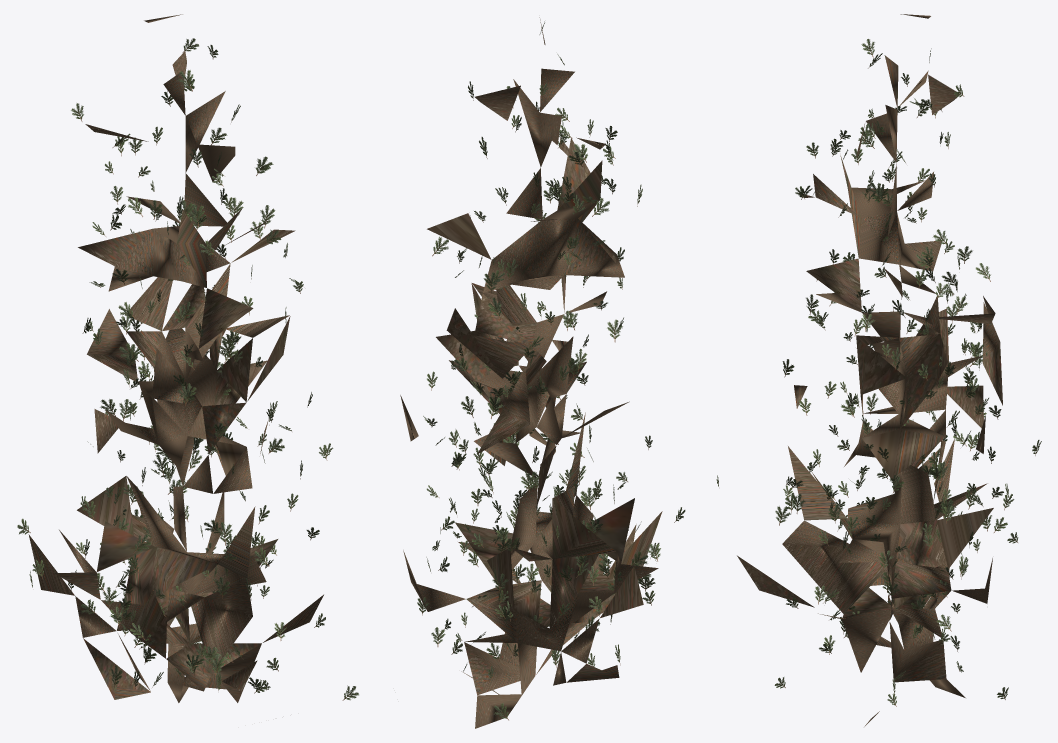
Rendered from tree_pine_far.glb.
3 renders of one model, left to right at view 1: azimuth 30°, elevation 25°; view 2: azimuth 150°, elevation 25°; view 3: azimuth 270°, elevation 25°, orthographic. The views are drawn at different scales.
Visible parts, largest first — view 1: Bark, Leaves; view 2: Bark, Leaves; view 3: Bark, Leaves.
Boxes of the visible parts, <box> form: Bark: <box>28,14,323,702</box>; Leaves: <box>17,38,358,700</box>; Bark: <box>400,17,662,728</box>; Leaves: <box>417,21,685,720</box>; Bark: <box>737,14,1002,726</box>; Leaves: <box>716,39,1041,706</box>.
Bounding box in the file's own units: 5.82 × 14.27 × 6.26.
2 materials, 2 textured.
